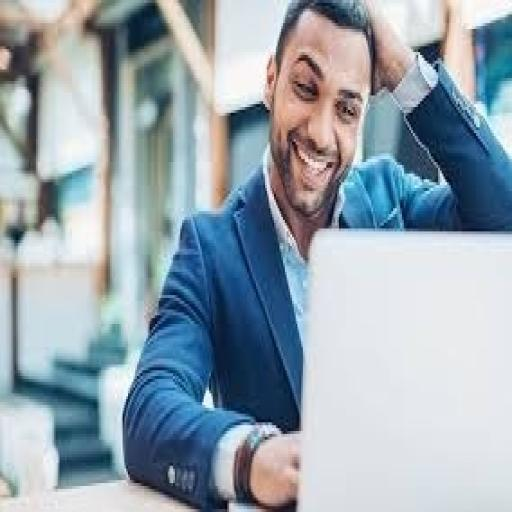laughing: (118, 0, 508, 506)
